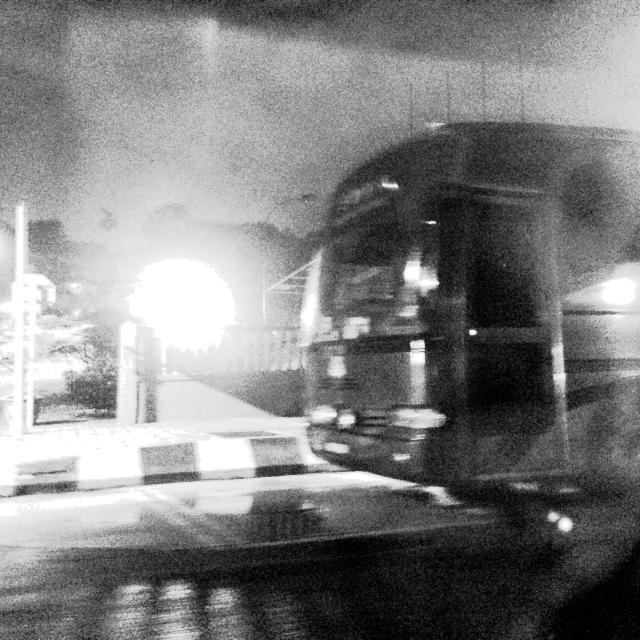Bus: (294, 89, 640, 540)
